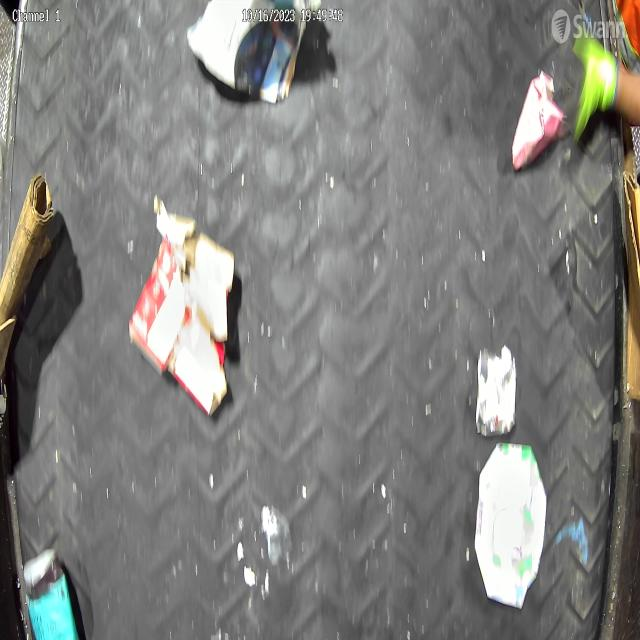can: (474, 347, 518, 438)
milk_jug: (473, 441, 548, 608)
